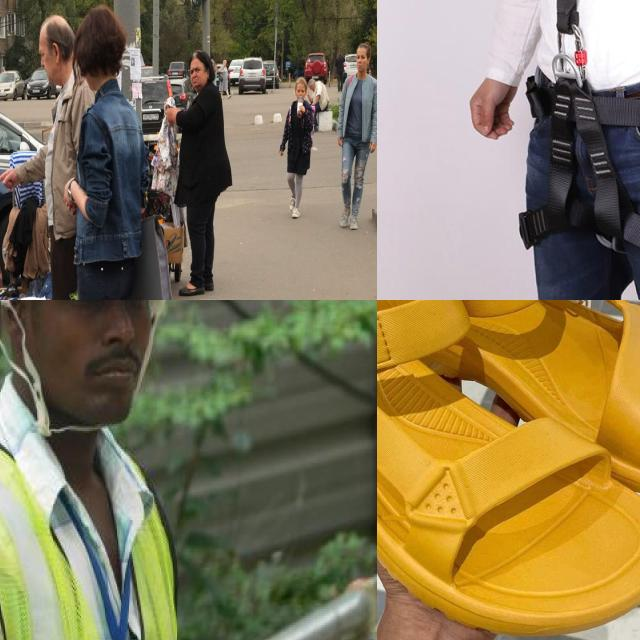Harness: (528, 0, 640, 240)
No_Glasses: (48, 300, 161, 331)
Sandals: (377, 300, 640, 640)
face_nomask: (31, 300, 174, 424)
person: (0, 300, 217, 640)
vest: (0, 422, 195, 640)
